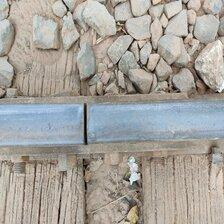railway-gap: (52, 92, 118, 153)
